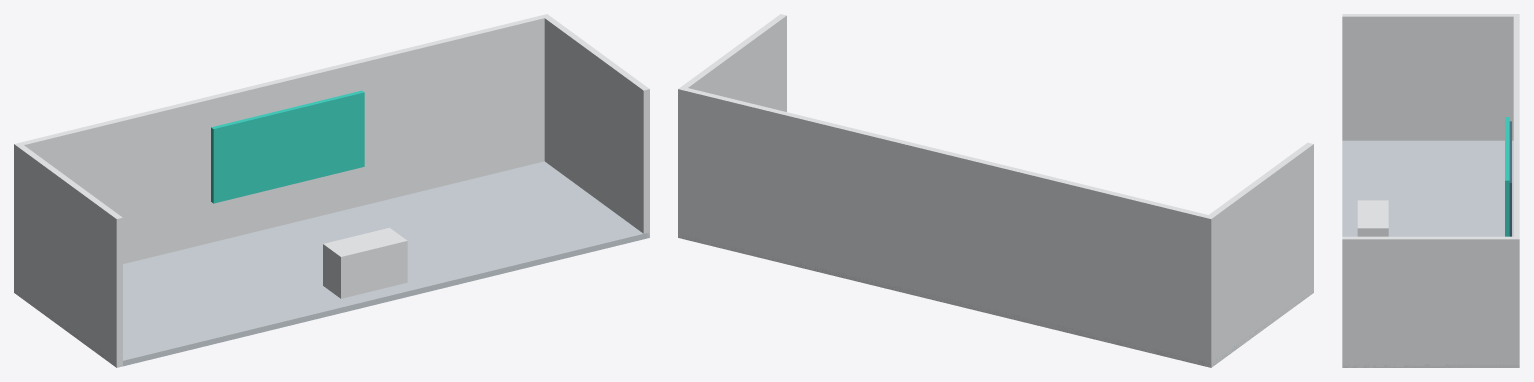
The picture shows the model from 3 angles, left to right: view 1: azimuth 30°, elevation 25°; view 2: azimuth 150°, elevation 25°; view 3: azimuth 270°, elevation 25°; orthographic projection. The views are drawn at different scales.
Visible parts, largest first — view 1: Exhibition Booth Concept; view 2: Exhibition Booth Concept; view 3: Exhibition Booth Concept.
Part boxes in pixels (<box>): Exhibition Booth Concept: <box>14,14,649,367</box>; Exhibition Booth Concept: <box>678,14,1313,367</box>; Exhibition Booth Concept: <box>1342,14,1519,367</box>.
Bounding box in the file's own units: 12 × 3.2 × 4.
